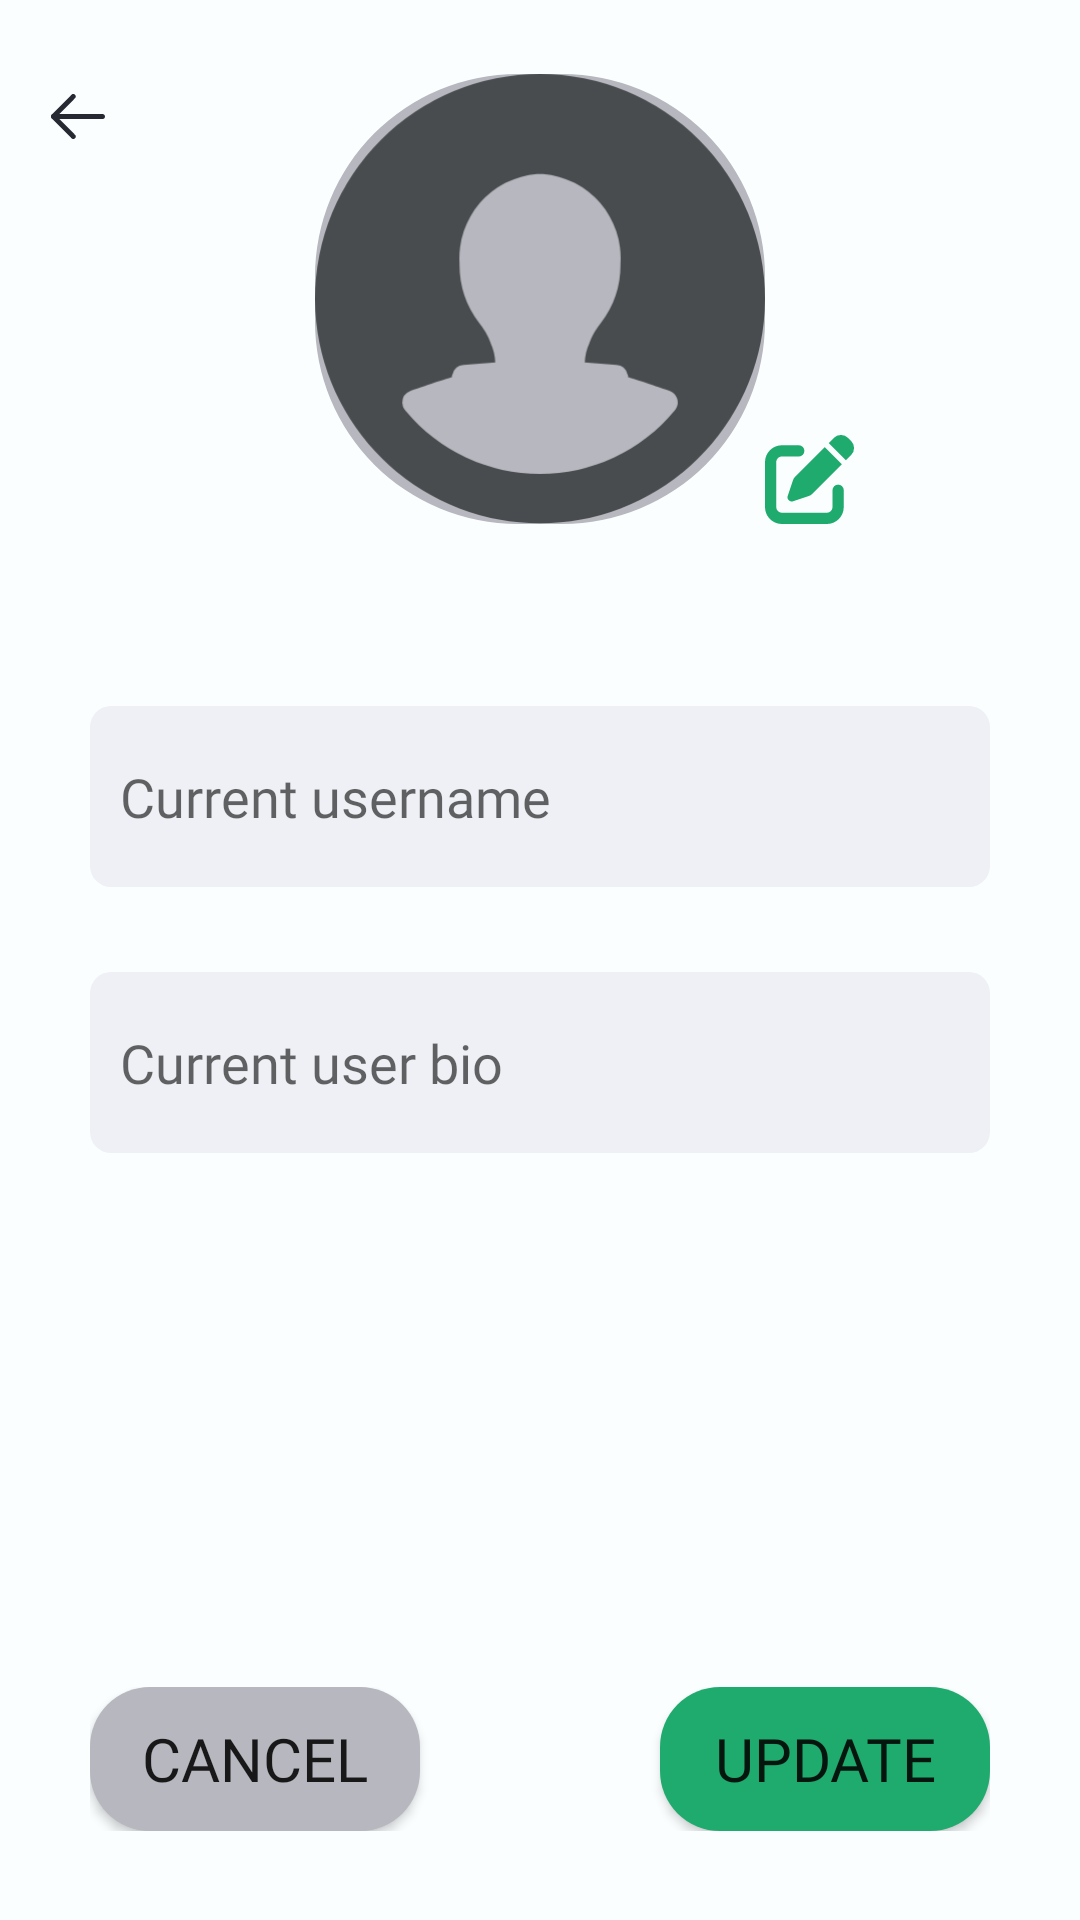

Screen size 1080w x 1920h. Icon name, then its box in pixels as (x1, y1, x2, y2):
arrow left: (51, 94, 105, 139)
profile edit: (765, 435, 854, 524)
